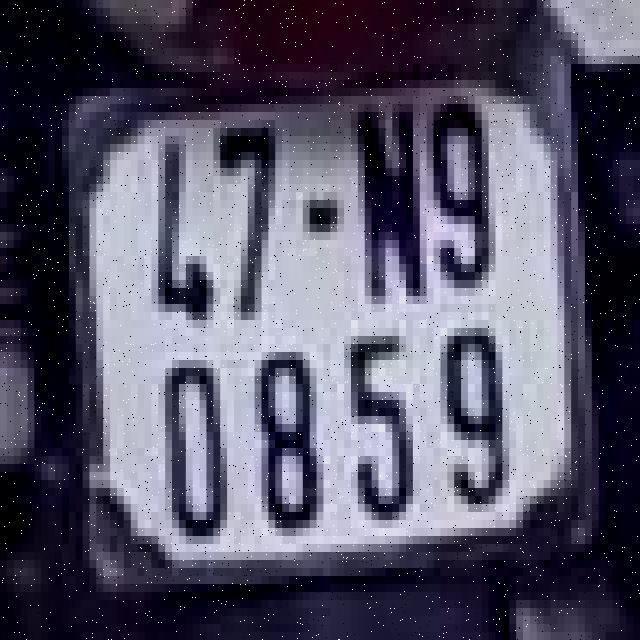0: (148, 344, 237, 544)
4: (141, 120, 217, 328)
5: (337, 316, 427, 540)
7: (220, 120, 282, 320)
8: (248, 344, 330, 536)
9: (430, 92, 506, 300), (437, 316, 513, 516)
N: (348, 88, 430, 304)
